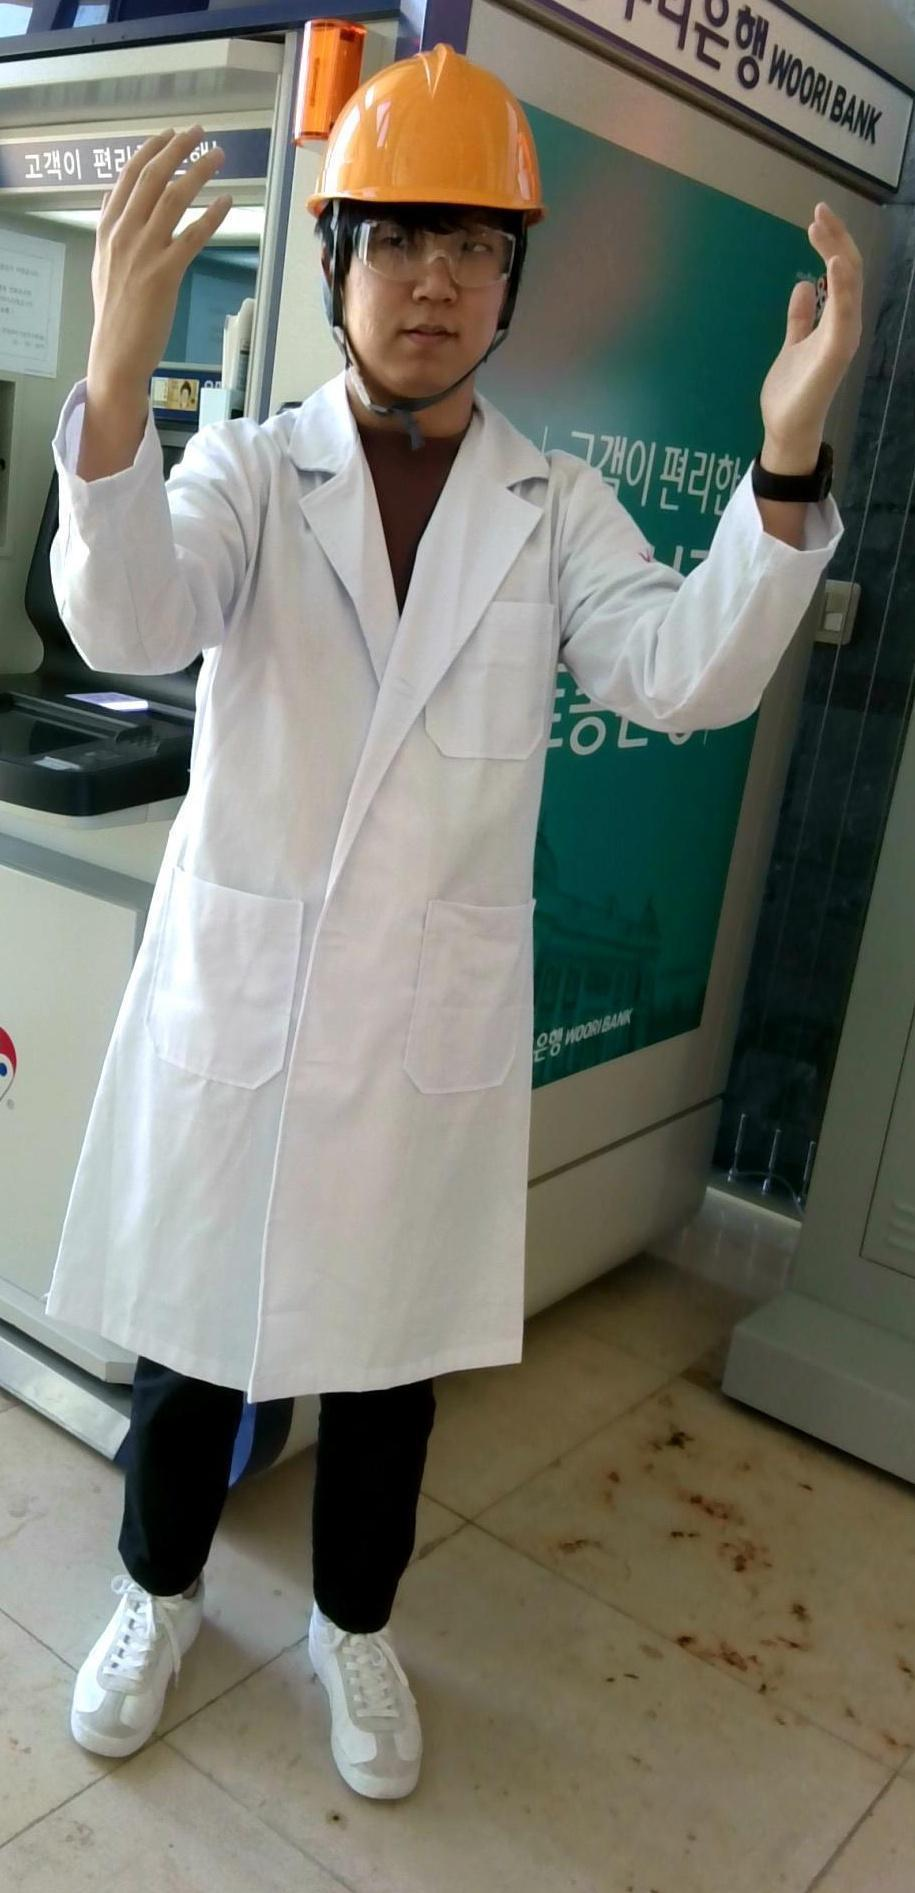lab_coat: (155, 474, 588, 1365)
